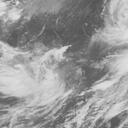cyclone: (1, 40, 70, 114), (104, 1, 127, 50)
